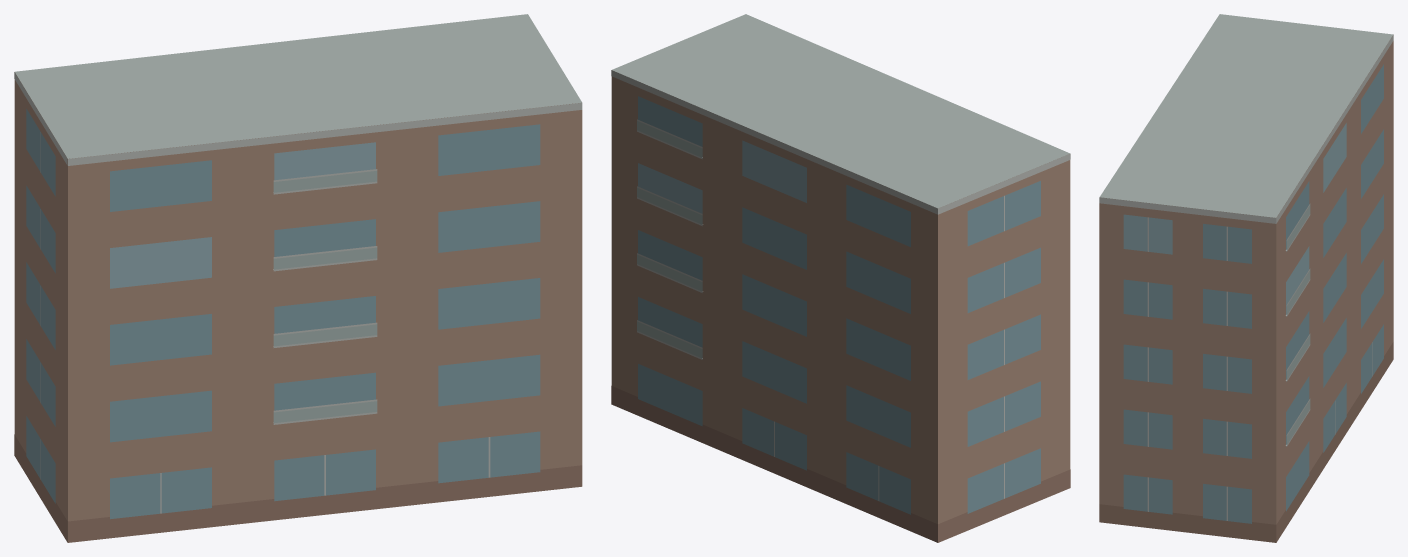
The model's file is survey-upis-32874495.glb.
3 views of the same model, side by side, from view 1: azimuth 30°, elevation 25°; view 2: azimuth 150°, elevation 25°; view 3: azimuth 270°, elevation 25° (orthographic). The views are drawn at different scales.
Visible parts, largest first — view 1: survey-upis-32874495.tmp; view 2: survey-upis-32874495.tmp; view 3: survey-upis-32874495.tmp.
Boxes of the visible parts, bbox=[...] form: survey-upis-32874495.tmp: bbox=[14, 14, 582, 542]; survey-upis-32874495.tmp: bbox=[611, 14, 1070, 542]; survey-upis-32874495.tmp: bbox=[1099, 14, 1393, 542].
Bounding box in the file's own units: 17.63 × 13.1 × 10.75.
